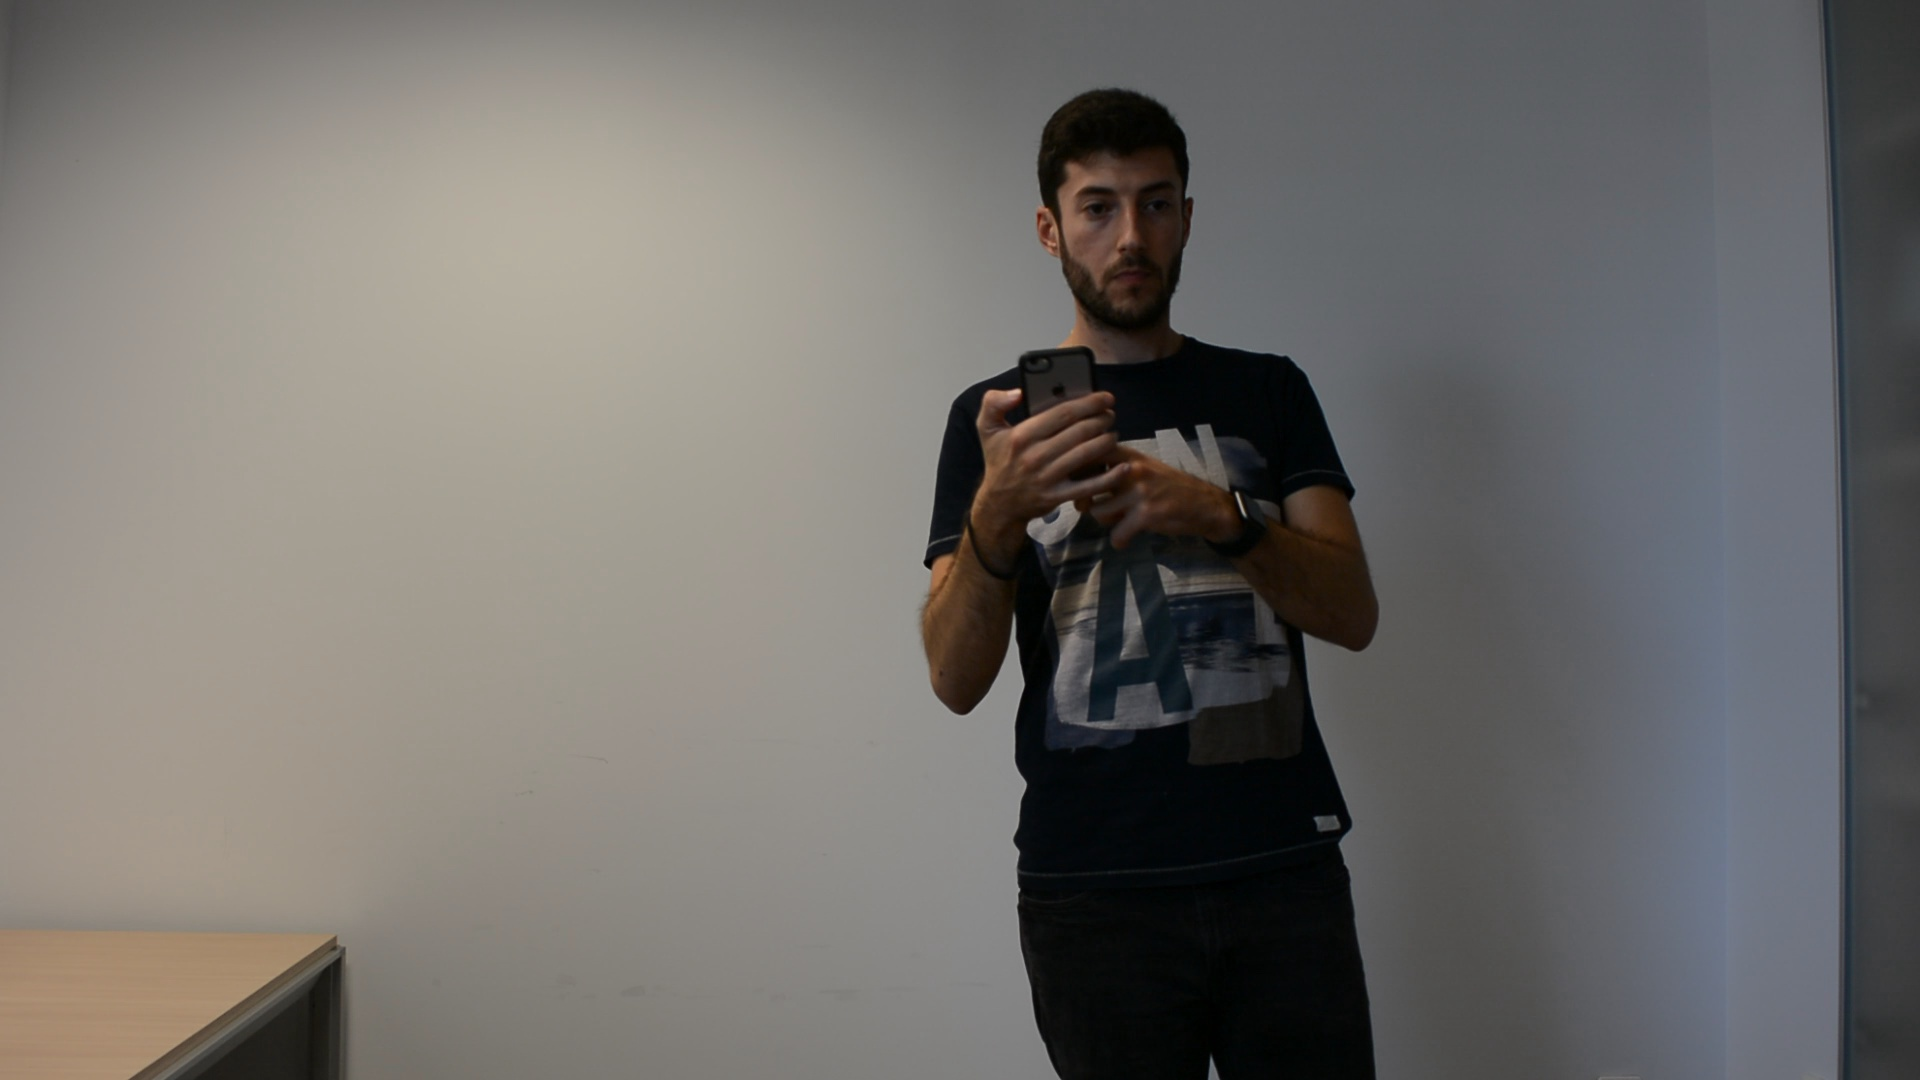smartphone: (1015, 345, 1112, 448)
